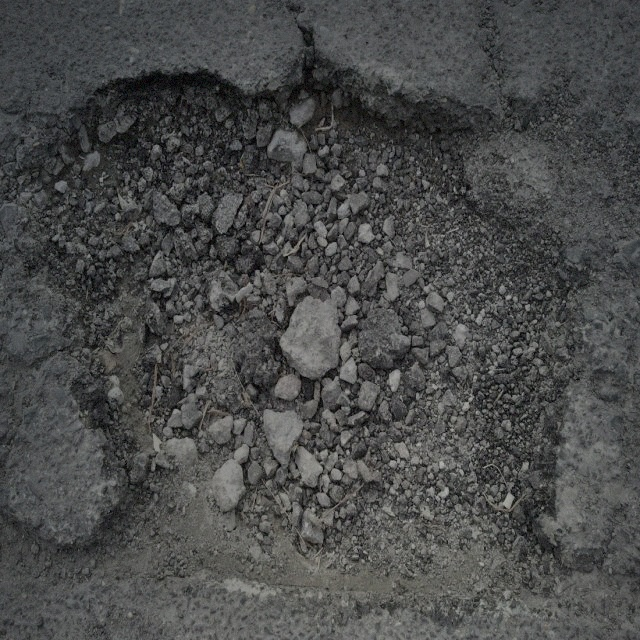pothole: (39, 34, 585, 564)
